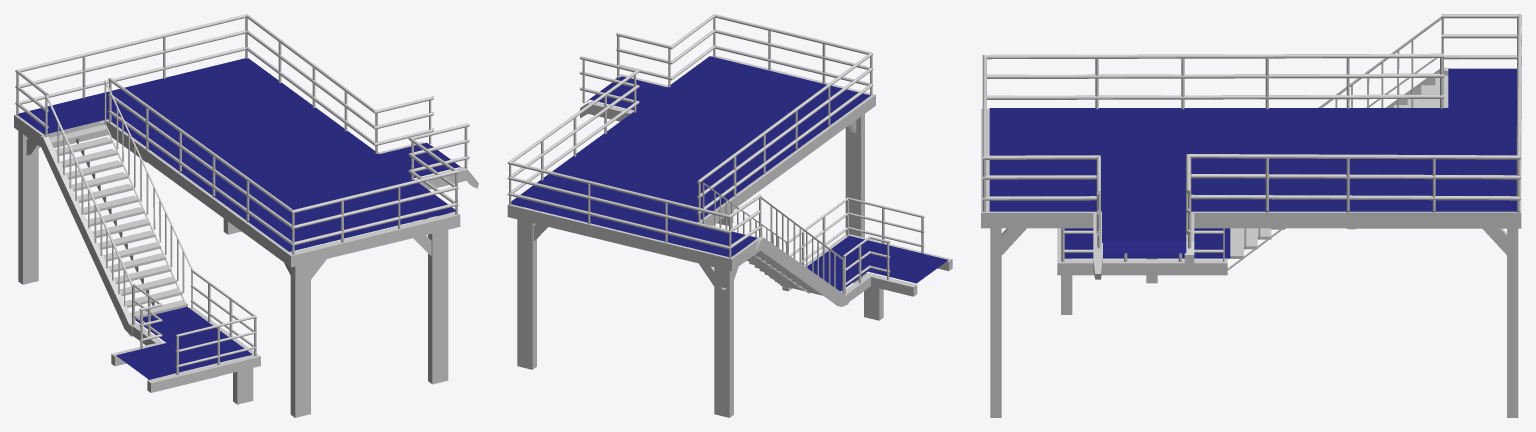
Rendered from Stairs_platform_v1.FBX.
3 renders of one model, left to right at view 1: azimuth 30°, elevation 25°; view 2: azimuth 150°, elevation 25°; view 3: azimuth 270°, elevation 25°, orthographic. The views are drawn at different scales.
Parts seen in each view (by area): view 1: stairs_platform, Line13128; view 2: Line13128, stairs_platform; view 3: stairs_platform, Line13128.
Boxes of the visible parts, x1,y1,x2,y2 form: stairs_platform: (17,58,461,379); Line13128: (14,14,478,417); Line13128: (507,14,952,417); stairs_platform: (511,56,948,295); stairs_platform: (989,68,1518,258); Line13128: (981,14,1521,417).
Size of the model in its own units: 344 by 203 by 372.
